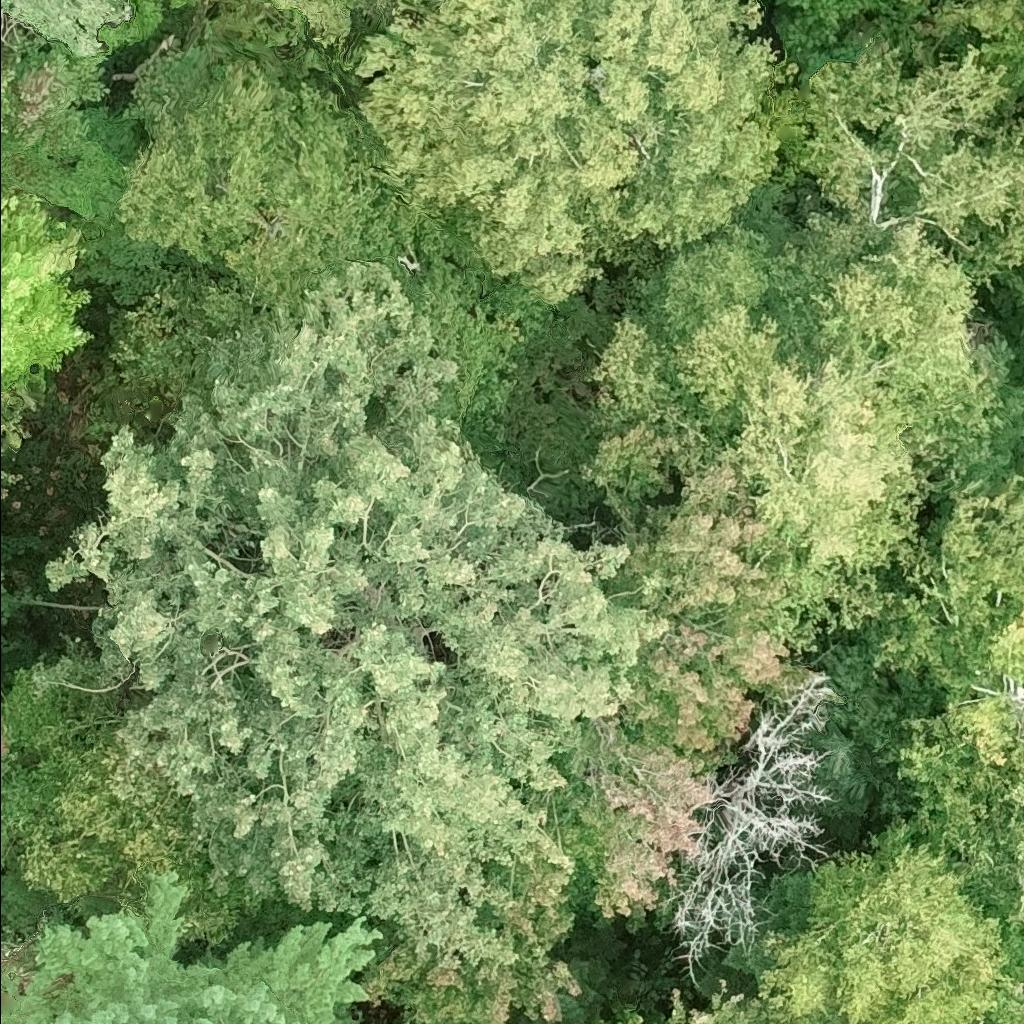crown: (47, 258, 672, 961), (110, 35, 547, 430), (584, 178, 933, 660), (357, 0, 798, 315), (357, 709, 724, 1023), (580, 421, 820, 773), (865, 475, 1023, 944), (766, 209, 1023, 491), (0, 870, 383, 1023), (797, 33, 1023, 288), (17, 731, 278, 948), (661, 673, 839, 981), (757, 824, 1010, 1023), (0, 644, 150, 876), (0, 13, 140, 223), (0, 189, 93, 391), (912, 0, 1023, 108), (0, 0, 129, 55), (981, 939, 1023, 1023), (268, 0, 356, 40), (0, 914, 49, 983), (0, 381, 27, 457), (1002, 270, 1023, 309), (900, 0, 926, 9), (0, 468, 19, 480), (619, 1014, 644, 1023), (0, 486, 8, 501), (600, 1021, 612, 1023)
